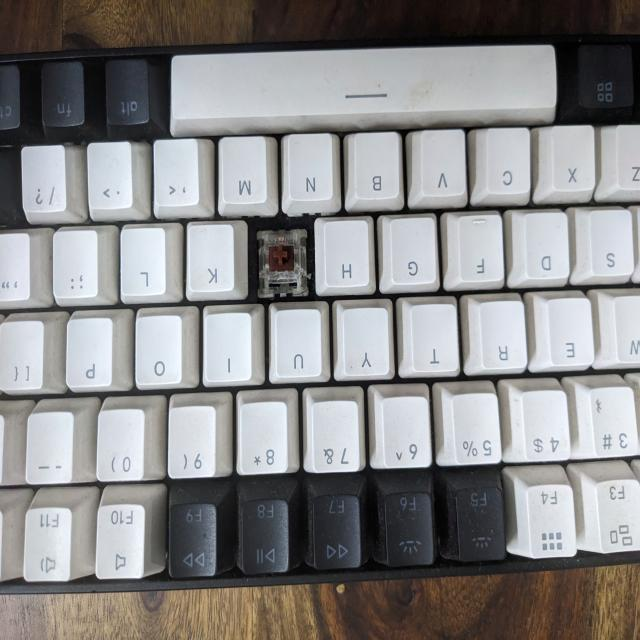C: (257, 230, 315, 304)
